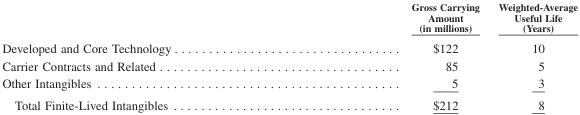table: (1, 0, 577, 111)
table column: (1, 0, 293, 111), (293, 0, 488, 111), (488, 0, 577, 111)
table column header: (1, 0, 577, 36)
table row: (1, 0, 577, 36), (1, 36, 577, 56), (1, 74, 577, 93), (1, 56, 577, 74), (1, 93, 577, 111)
